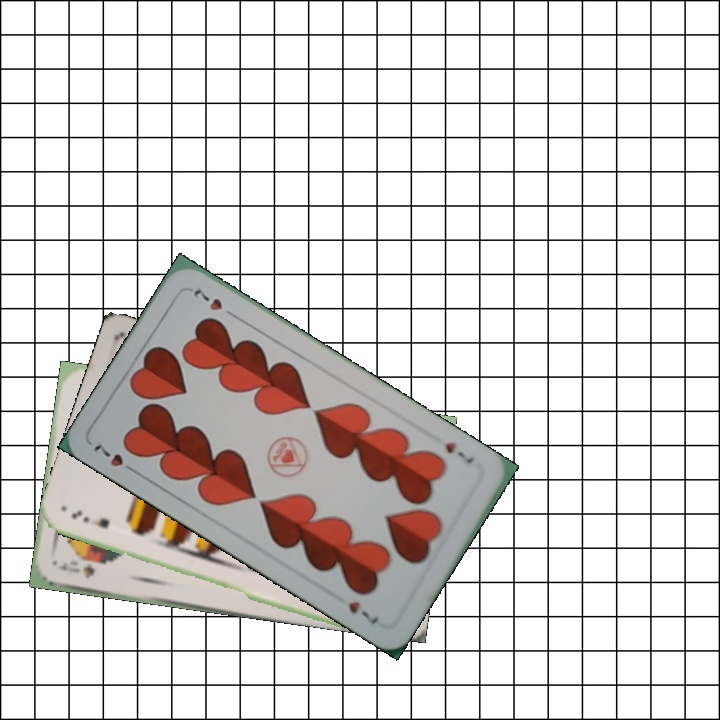E7: (67, 505, 112, 531)
H7: (89, 440, 141, 477), (440, 438, 477, 467)
SO: (56, 557, 97, 582)
